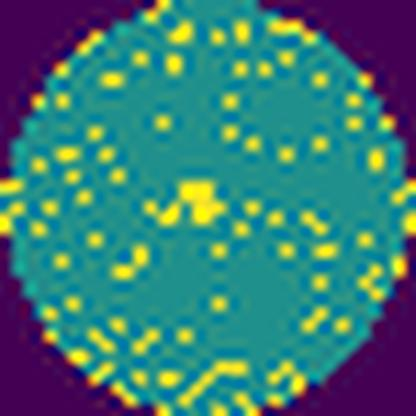Center: (144, 180, 229, 230)
